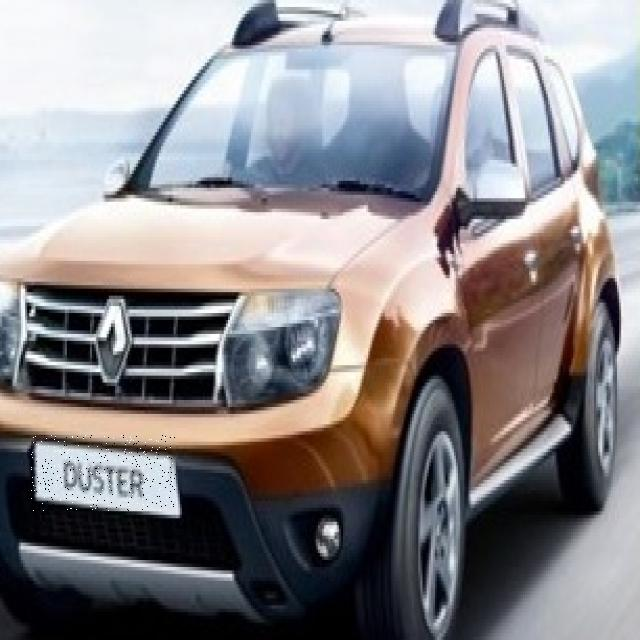Plate: (32, 436, 177, 512)
